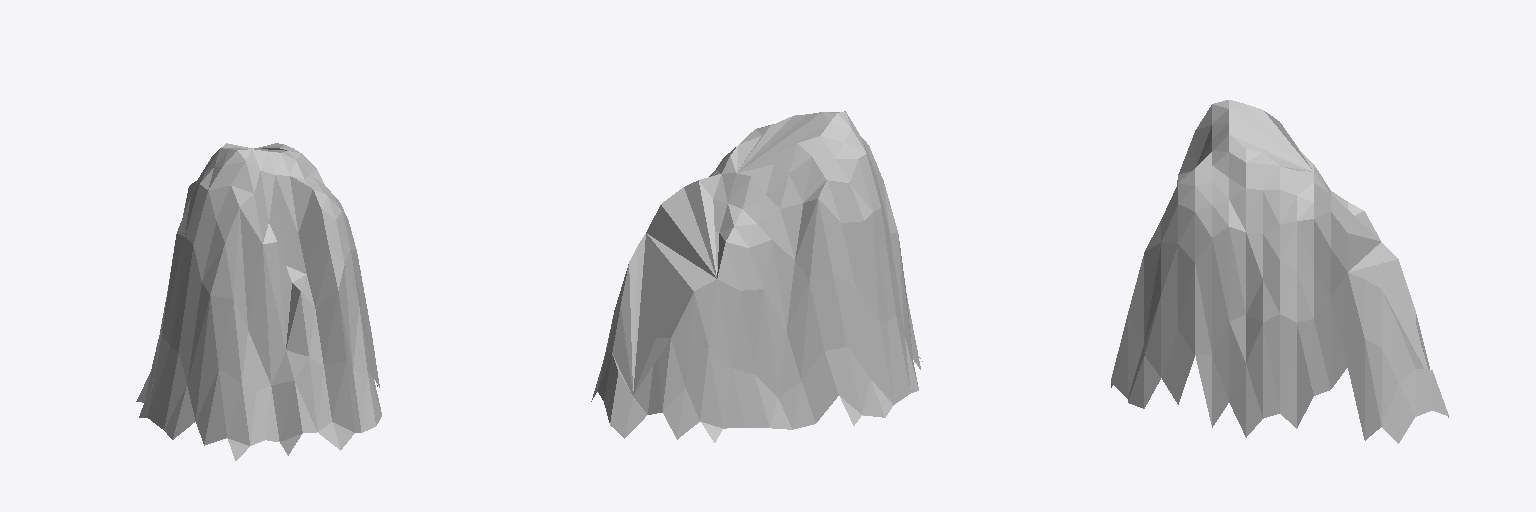
Rendered from tree_1.obj.
3 renders of one model, left to right at view 1: azimuth 30°, elevation 25°; view 2: azimuth 150°, elevation 25°; view 3: azimuth 270°, elevation 25°, orthographic.
Visible parts, largest first — view 1: tree_1.001; view 2: tree_1.001; view 3: tree_1.001.
Part boxes in pixels (x1,y1,x2,y2): tree_1.001: (136,143,381,460); tree_1.001: (591,111,922,442); tree_1.001: (1111,100,1448,443).
Bounding box in the file's own units: 16 × 17.6 × 20.